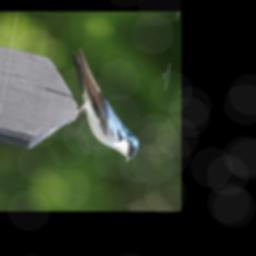Swallow: (55, 46, 153, 165)
